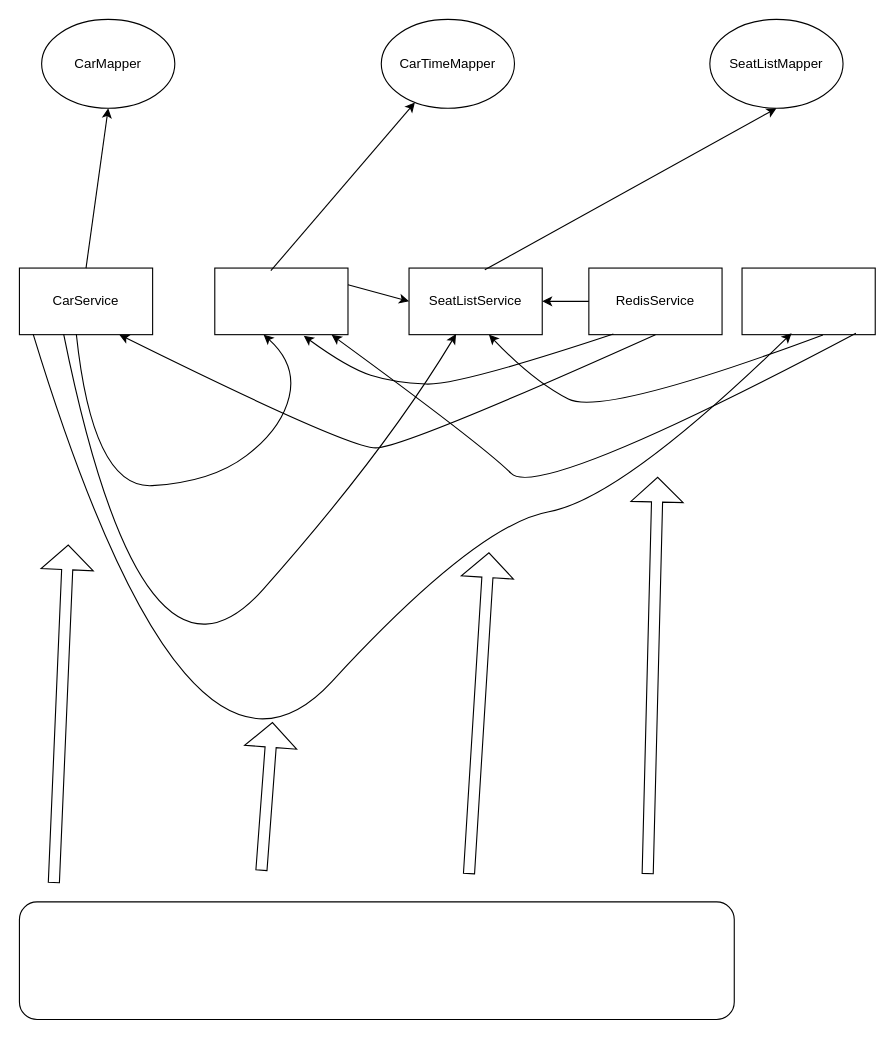
Image size: 895x1039. Some labels were removed from this diagram. Each missing label, with the centre of its shape:
"CarTimeService" goes at (281,301).
"Controller" goes at (376,960).
"RedisCreate" goes at (808,301).
